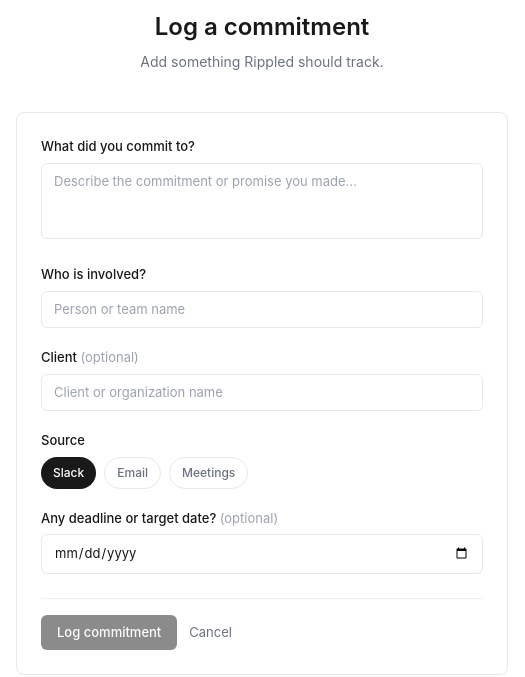
LogCommitmentModal › shows success banner after successful submit
Type "Deliver the report by Friday" into the text box with placeholder "Describe the commitment or promise you made...".
click(262, 201); type("Deliver the report by Friday")  # box 41,162 -> 483,239
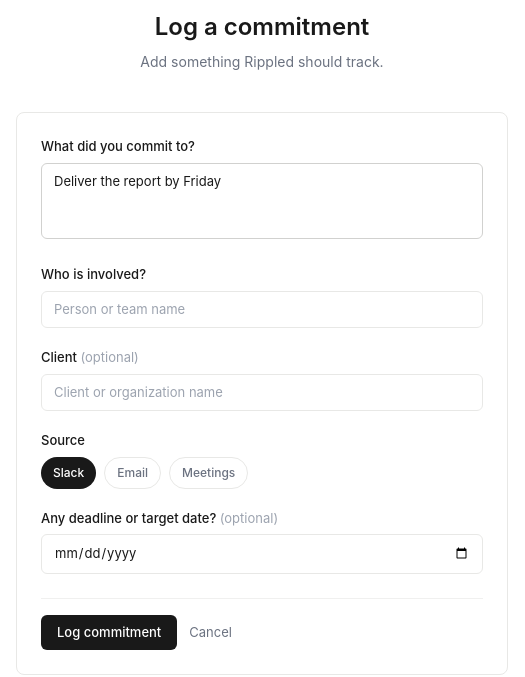
Click the button "Log commitment".
click(109, 632)  # box 41,614 -> 177,650
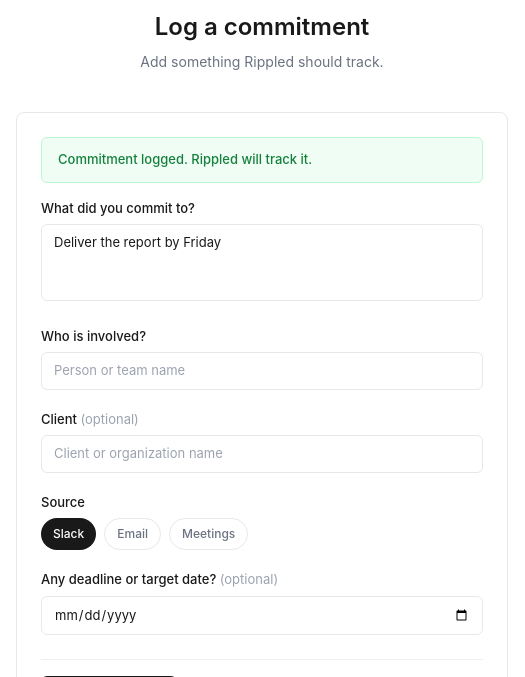
Expected: the text "Commitment logged. Rippled will track it." is shown, 41,137 -> 483,182
